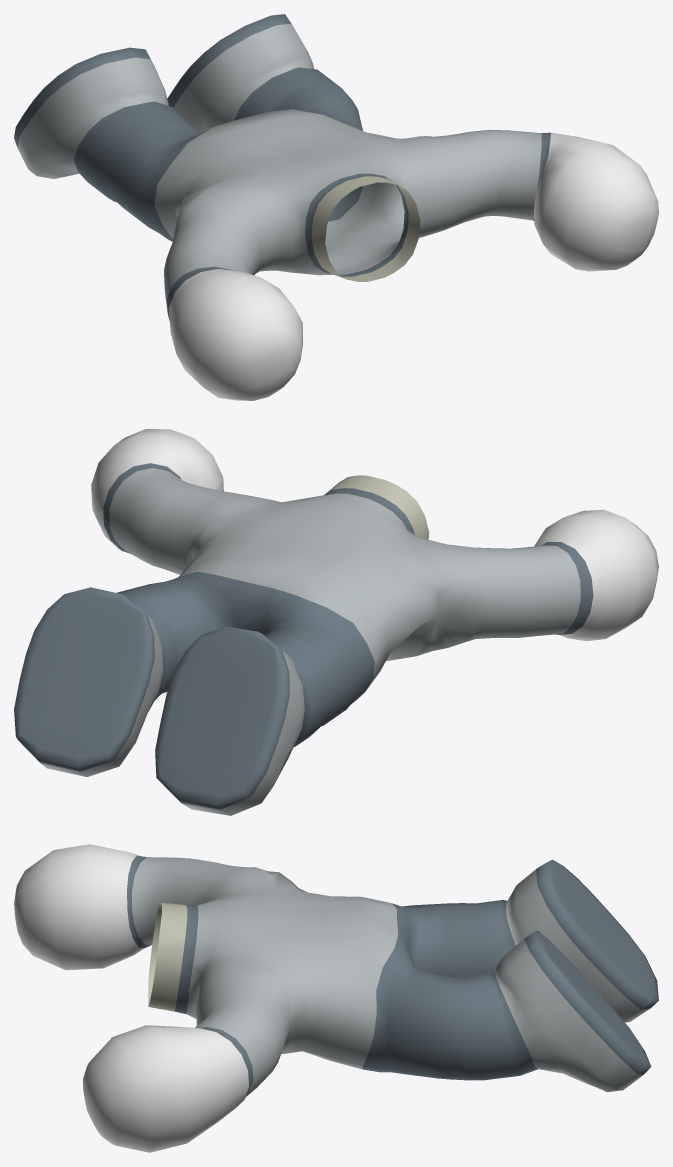
The model's file is scene_human4.fbx.
The picture shows the model from 3 angles, top to bottom: view 1: azimuth 30°, elevation 25°; view 2: azimuth 150°, elevation 25°; view 3: azimuth 270°, elevation 25°; orthographic projection. The views are drawn at different scales.
Parts seen in each view (by area): view 1: body_N1; view 2: body_N1; view 3: body_N1.
Part boxes in pixels (bbox=[...]): body_N1: bbox=[14, 14, 658, 400]; body_N1: bbox=[14, 429, 658, 815]; body_N1: bbox=[14, 844, 658, 1152].
Bounding box in the file's own units: 153 × 43.7 × 171.
